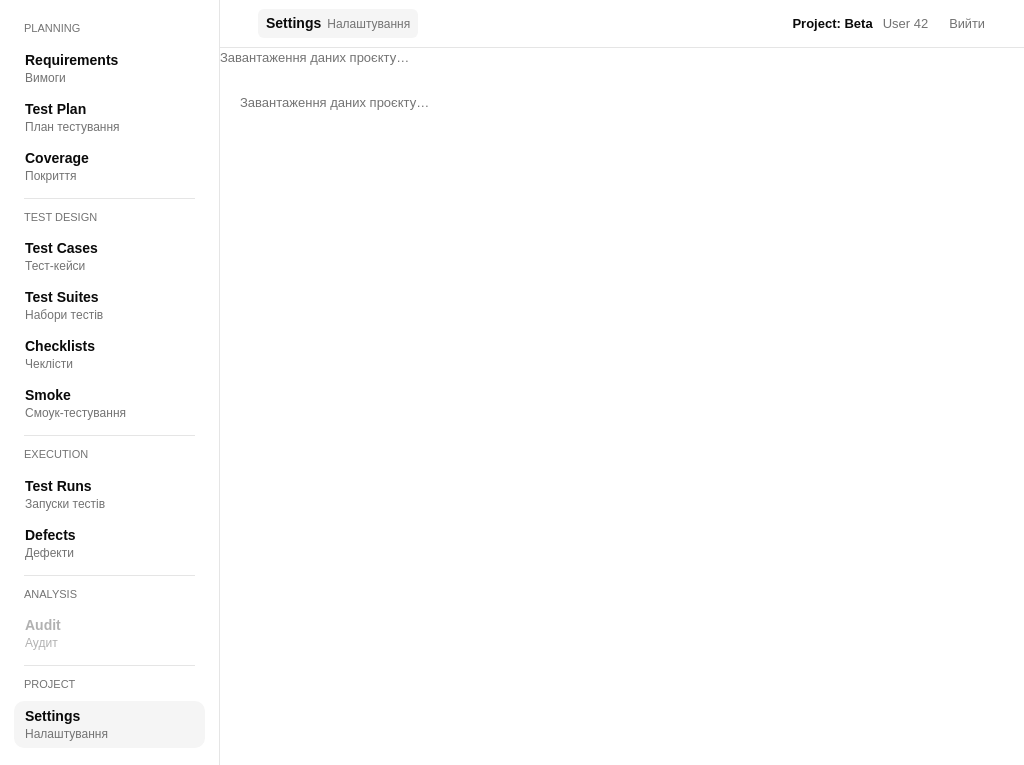
selected Project persistence › replaces the persisted id when the selected Project is deleted
(page scrolled)
Click the button with aria-label "Settings / Налаштування". click: (110, 724)
box: [14,700,205,748]
(page scrolled)
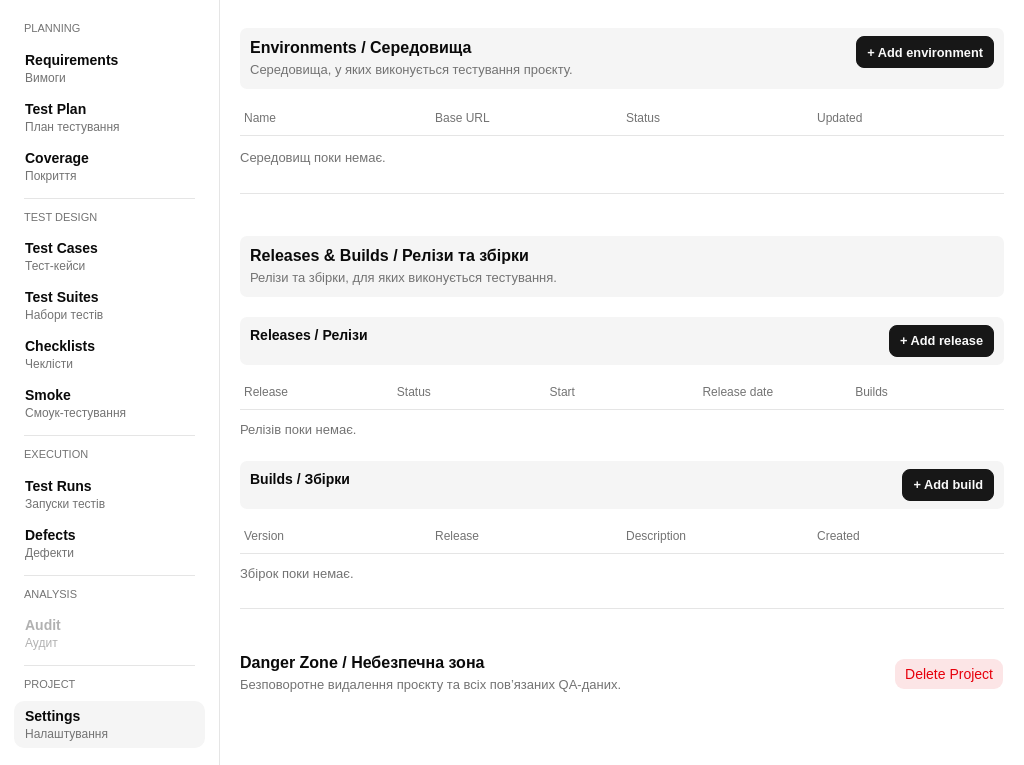
Click the button "Delete Project". click: (949, 674)
box: [894,658,1004,690]
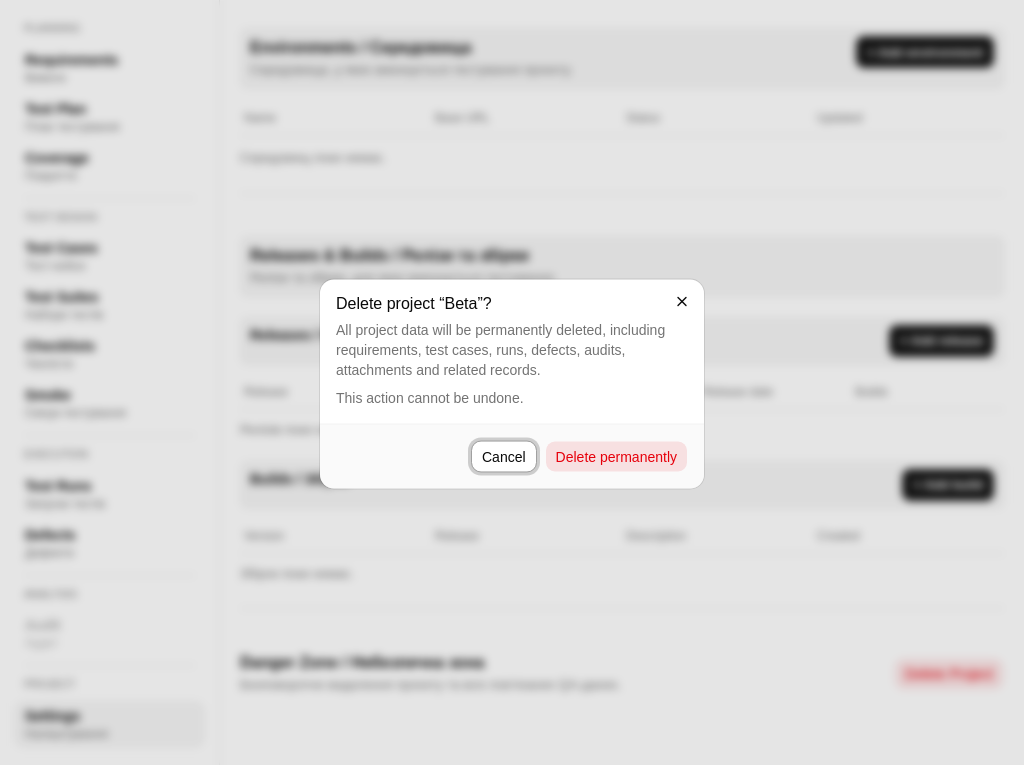
Click the button "Delete permanently". click: (616, 456)
box: [545,440,688,472]
(page scrolled)
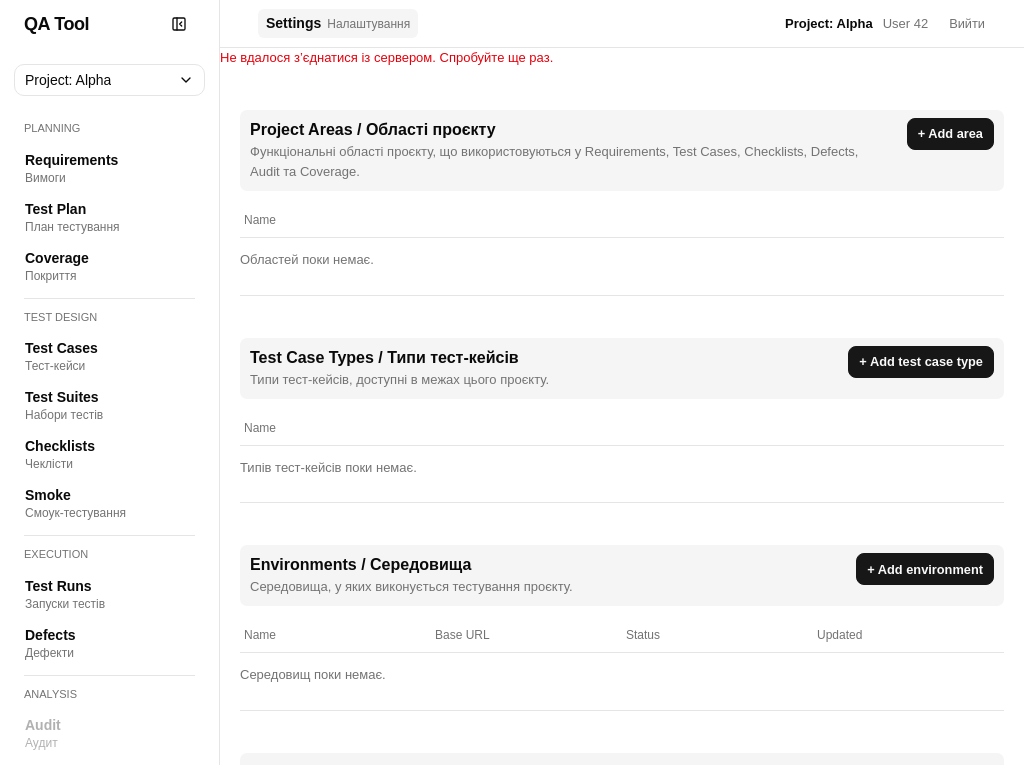
Check: the button "Project: Alpha" is shown, box [14,64,205,96]
